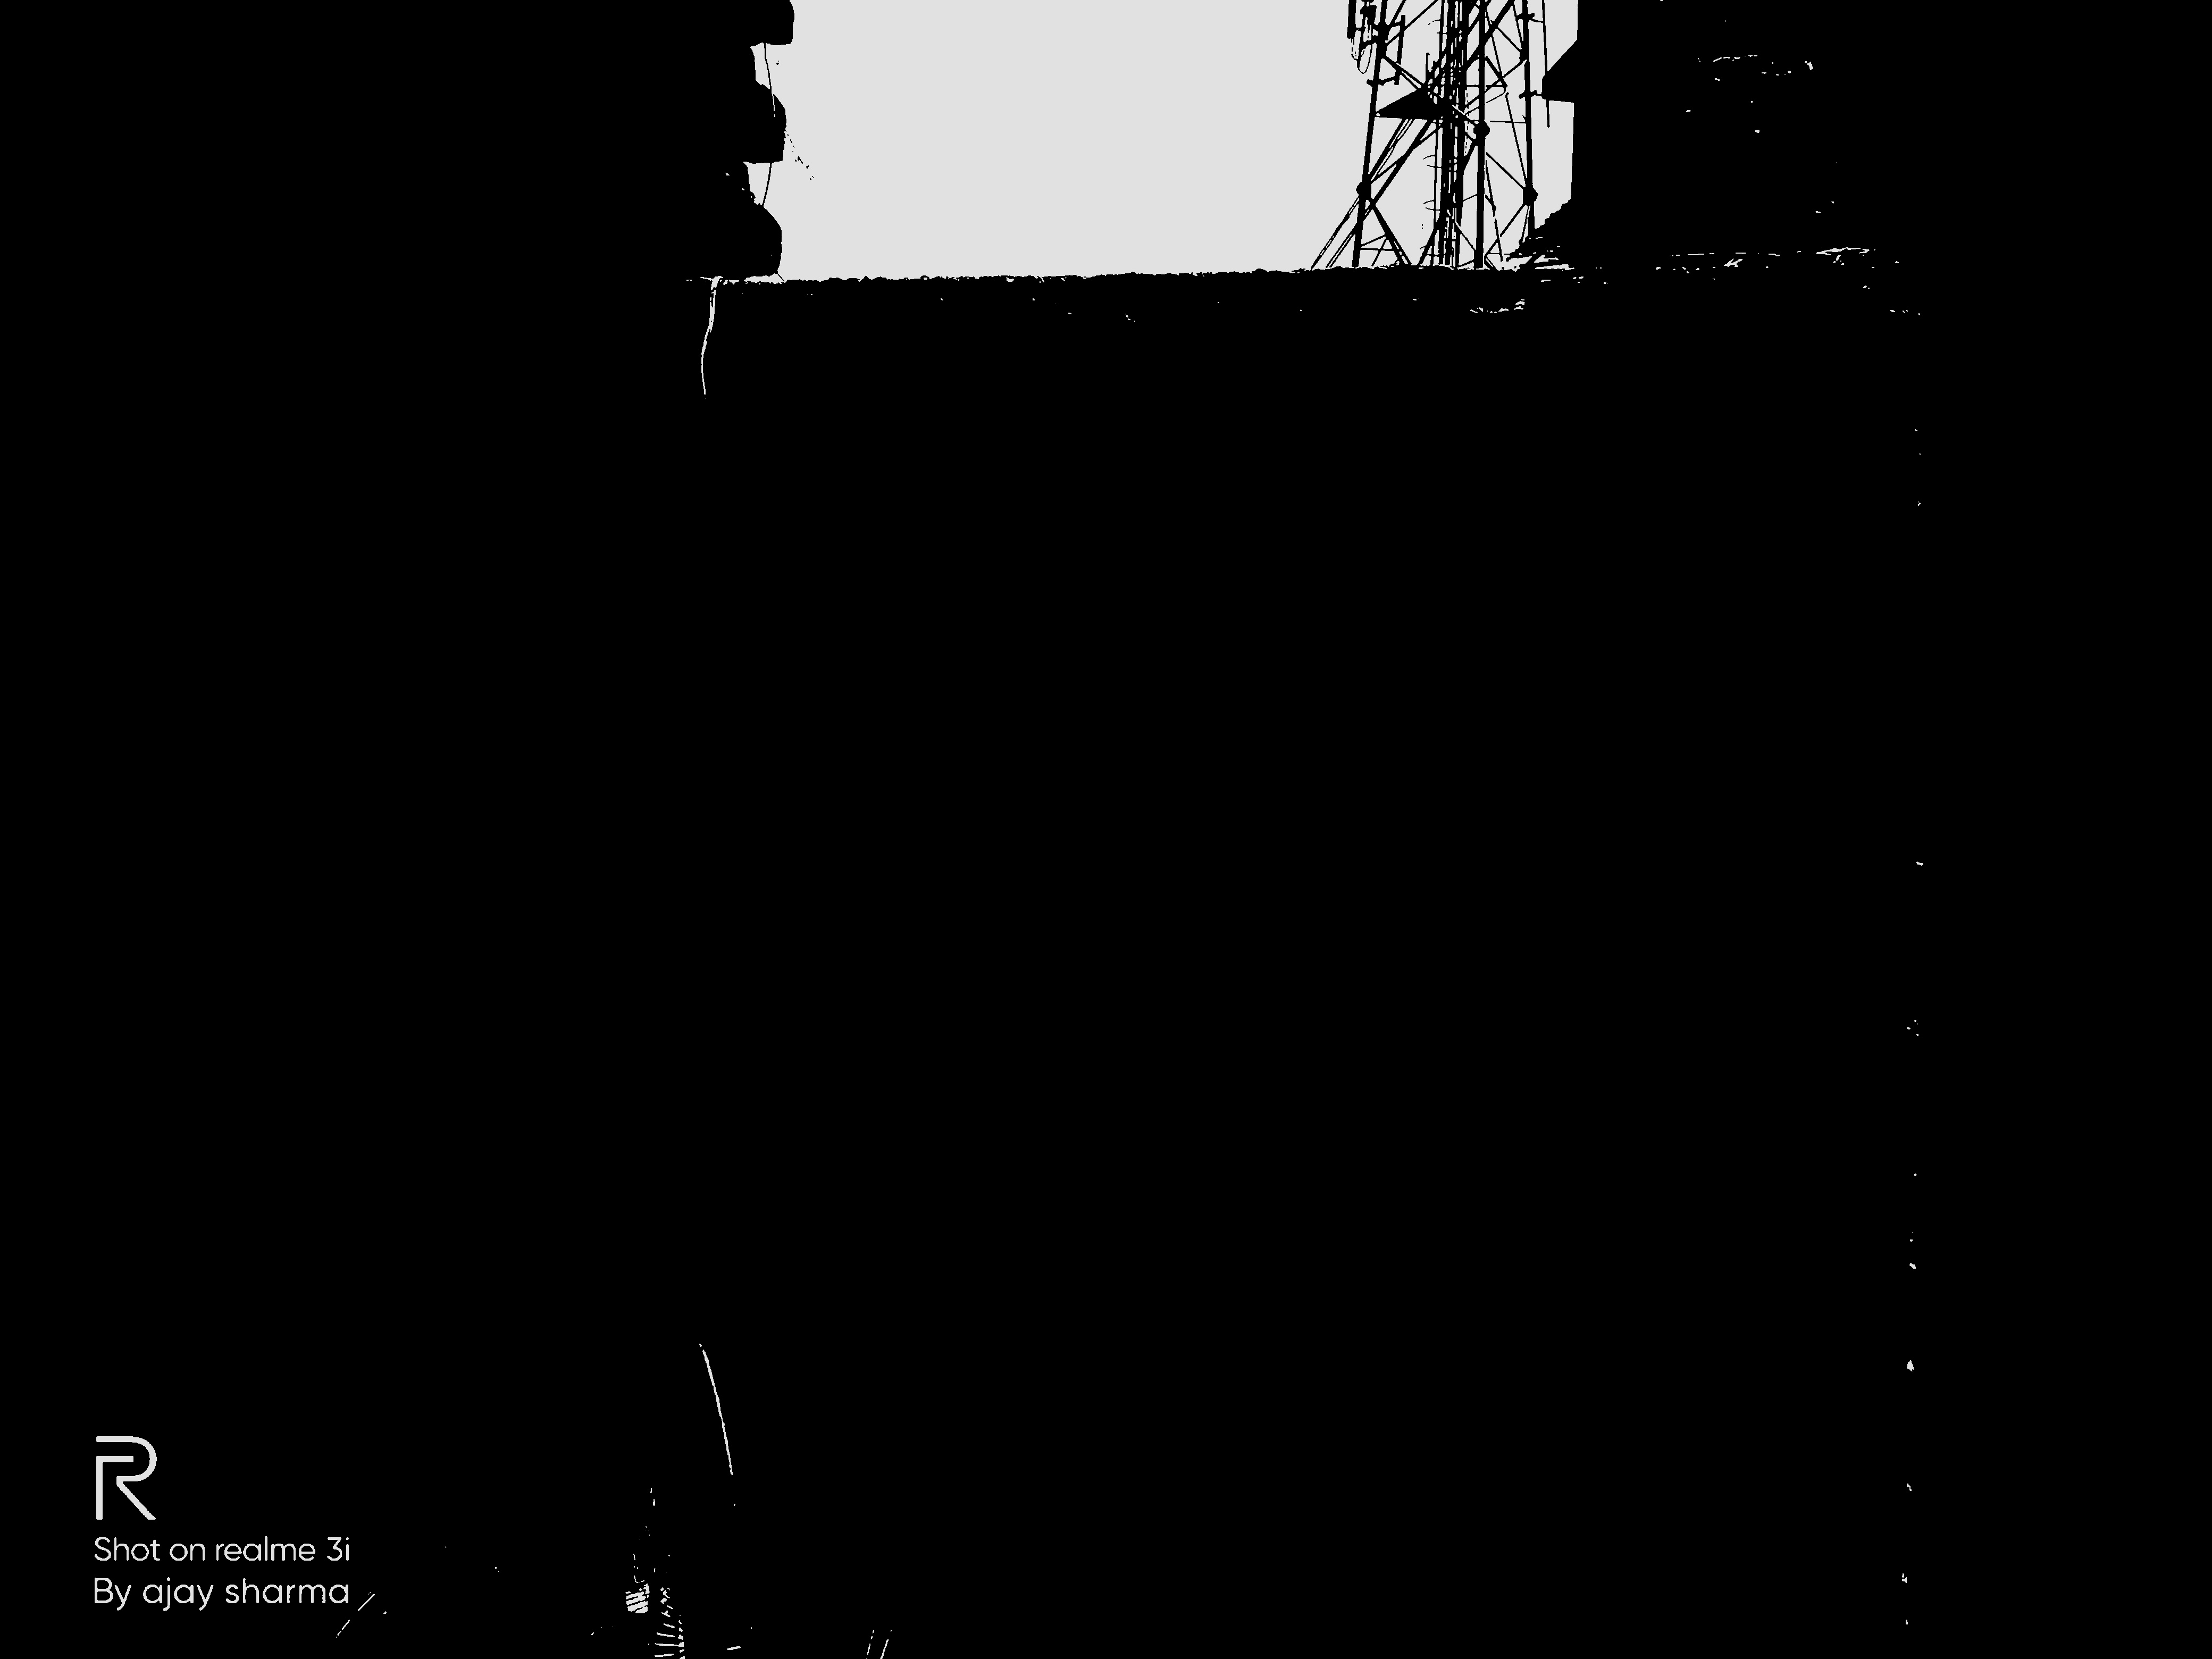text: (458, 397, 1653, 903)
